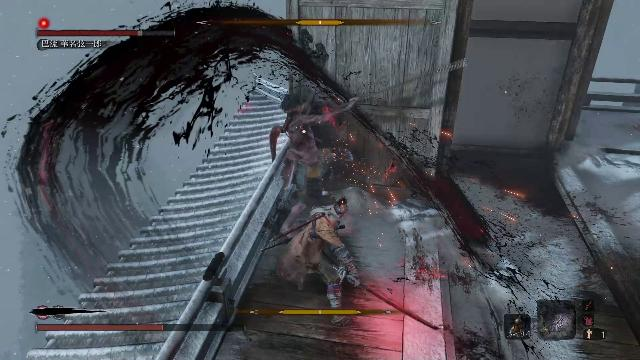sk: (277, 188, 366, 327)
